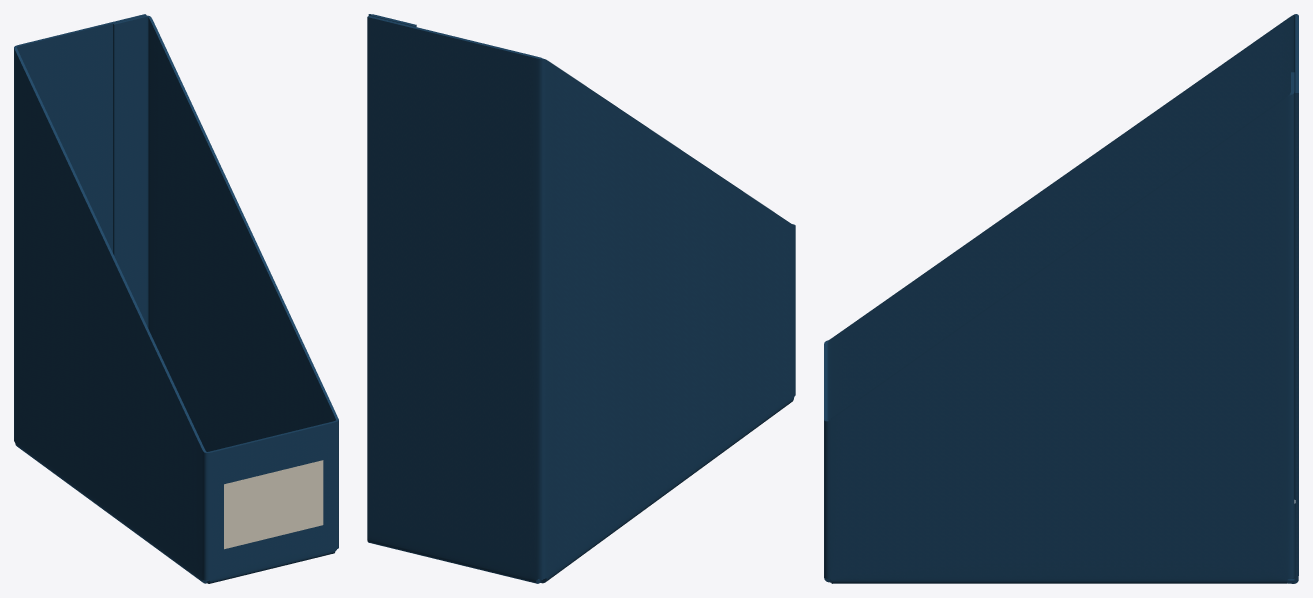
File: Folder2.fbx
3 renders of one model, left to right at view 1: azimuth 30°, elevation 25°; view 2: azimuth 150°, elevation 25°; view 3: azimuth 270°, elevation 25°, orthographic. The views are drawn at different scales.
Parts seen in each view (by area): view 1: Folder2, Plane023; view 2: Folder2; view 3: Folder2.
Boxes of the visible parts, box(x1,y1,x2,y2) form: Folder2: box(14, 14, 338, 583); Plane023: box(224, 460, 323, 549); Folder2: box(367, 14, 795, 583); Folder2: box(824, 14, 1298, 583).
Size of the model in its own units: 76.89 by 217 by 190.
Materials: 2 (1 with a texture image).
